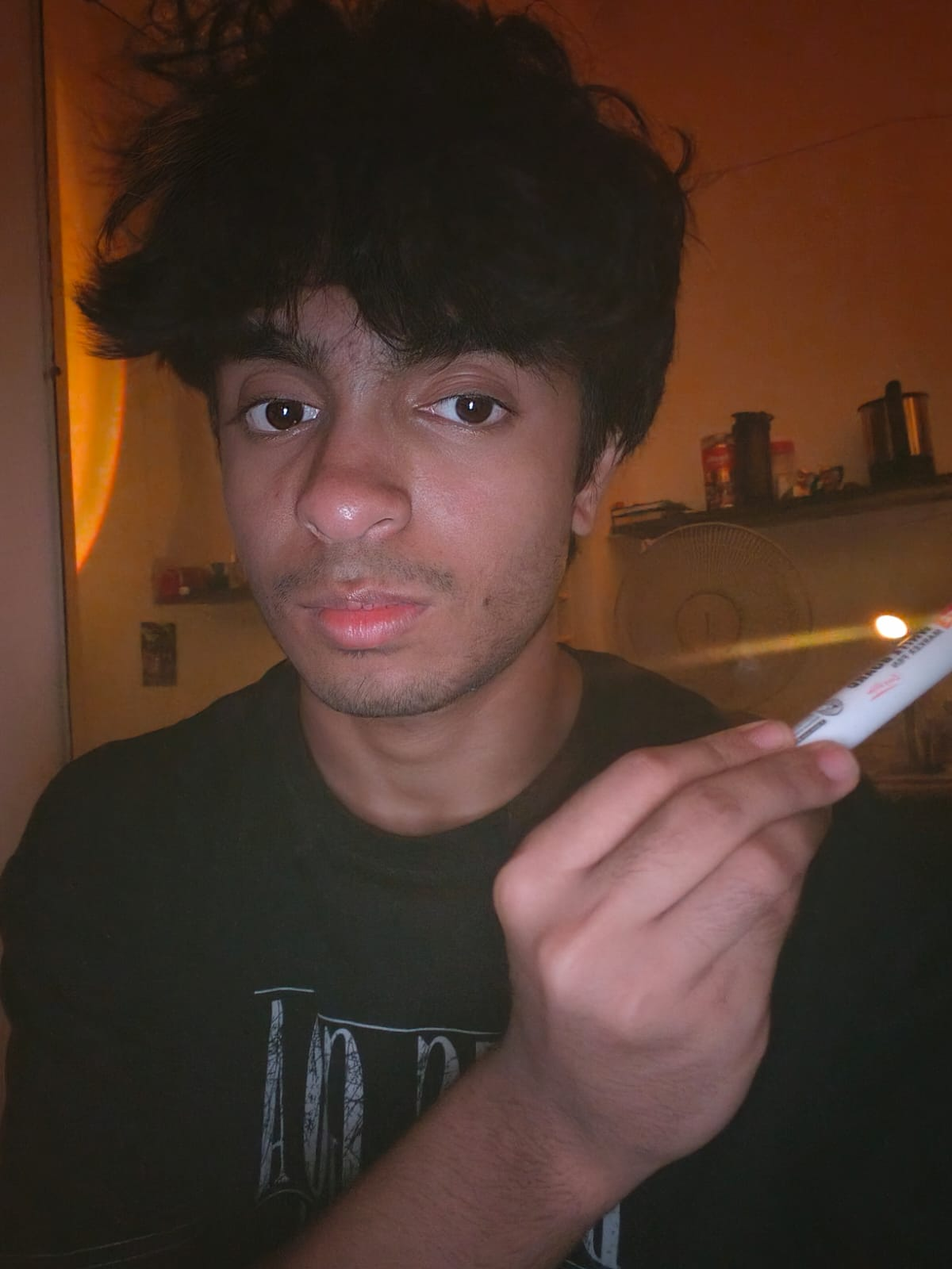case: (718, 543, 952, 829)
